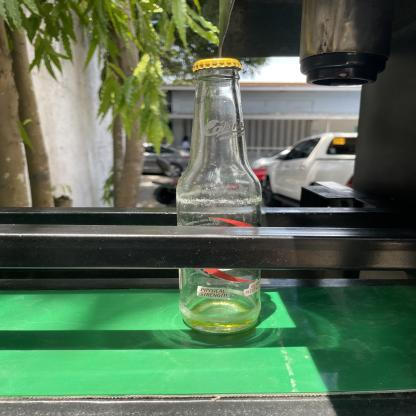Can: (176, 56, 264, 338)
